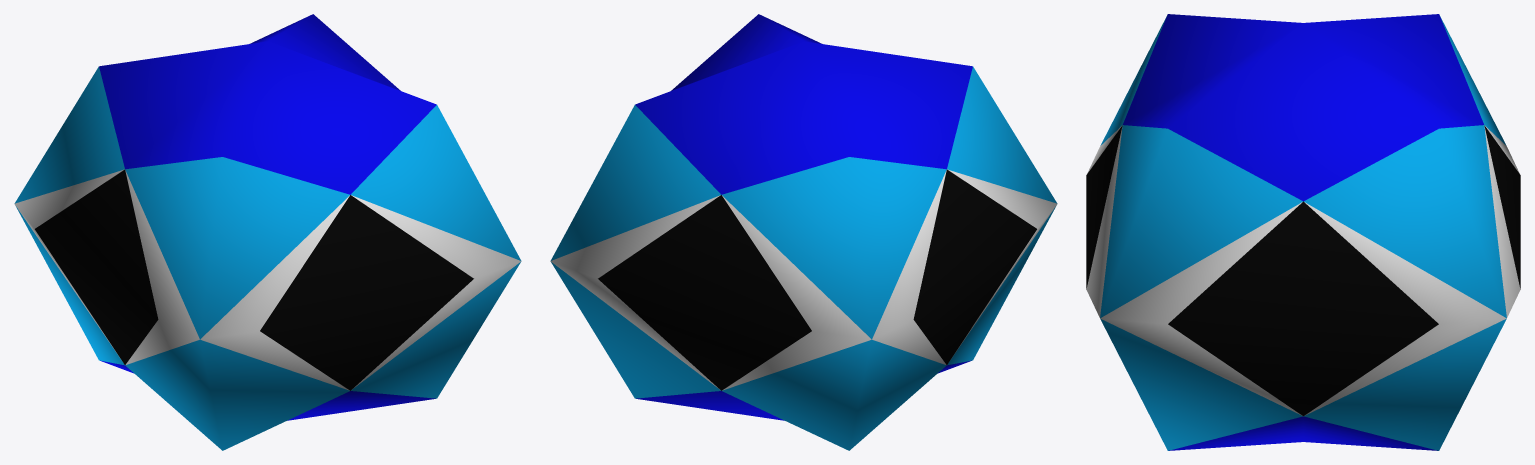
The model's file is alienEye.glb.
3 views of the same model, side by side, from view 1: azimuth 30°, elevation 25°; view 2: azimuth 150°, elevation 25°; view 3: azimuth 270°, elevation 25° (orthographic). The views are drawn at different scales.
Visible parts, largest first — view 1: Cube; view 2: Cube; view 3: Cube.
Boxes of the visible parts, left/top/right/bottom form: Cube: left=14, top=14, right=521, bottom=450; Cube: left=550, top=14, right=1057, bottom=450; Cube: left=1086, top=14, right=1520, bottom=450.
Size of the model in its own units: 4.6 by 4.9 by 4.6.
